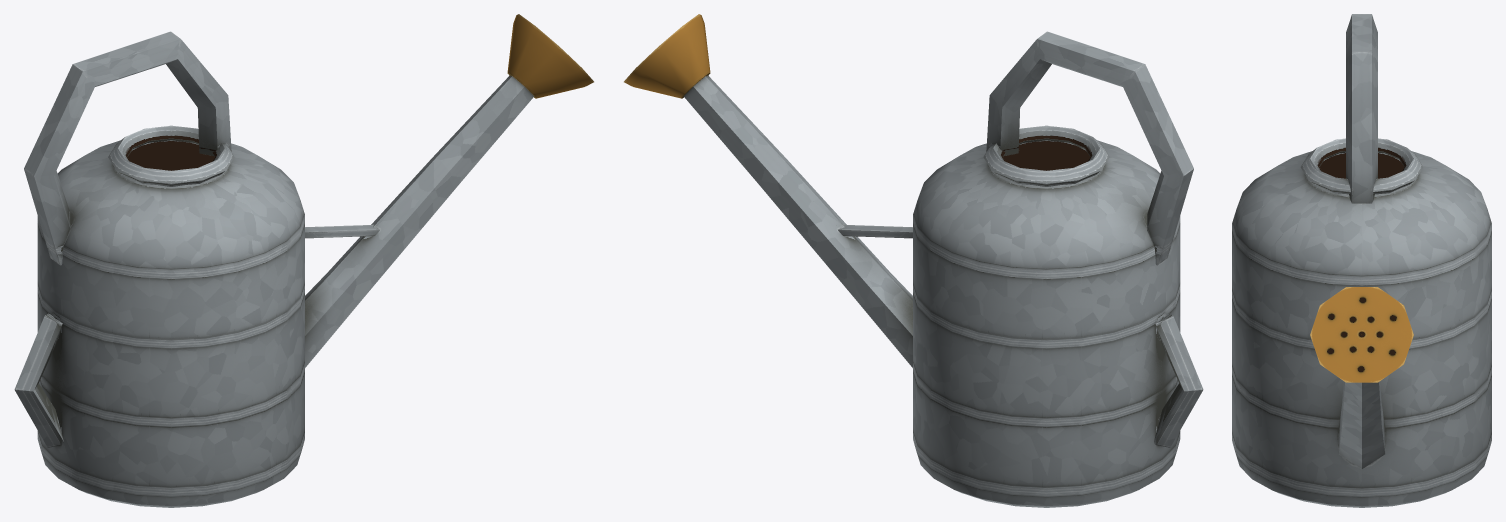
Rendered from Watering_Can_01.fbx.
The picture shows the model from 3 angles, left to right: view 1: azimuth 30°, elevation 25°; view 2: azimuth 150°, elevation 25°; view 3: azimuth 270°, elevation 25°; orthographic projection. The views are drawn at different scales.
Visible parts, largest first — view 1: Watering_Can_01; view 2: Watering_Can_01; view 3: Watering_Can_01.
Part boxes in pixels (<box>): Watering_Can_01: <box>14,14,593,507</box>; Watering_Can_01: <box>624,14,1203,507</box>; Watering_Can_01: <box>1232,14,1491,507</box>.
Size of the model in its own units: 0.6685 by 0.4723 by 0.272.
Materials: 1 (1 with a texture image).
